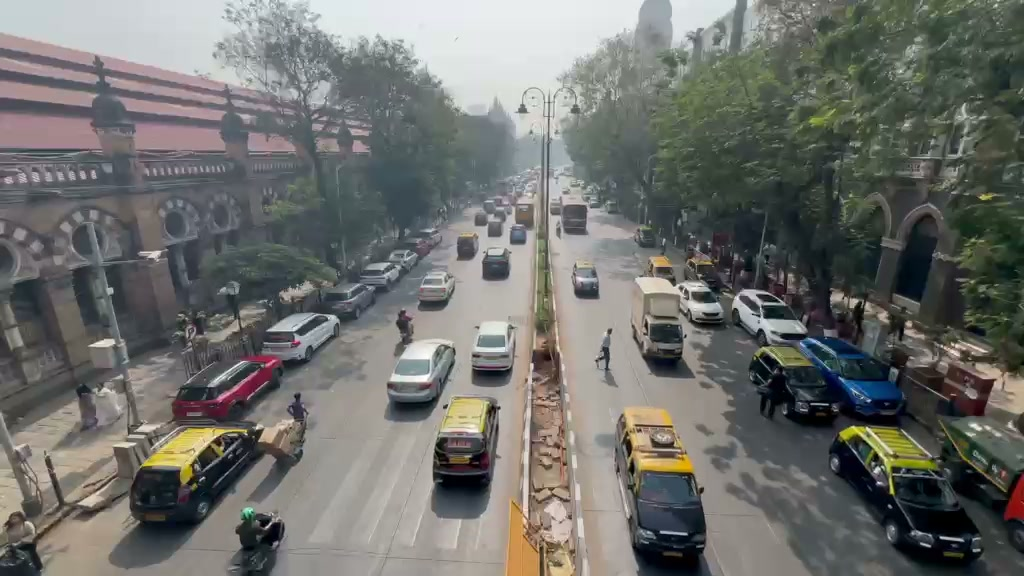car: (128, 424, 261, 525), (797, 335, 907, 421), (626, 457, 708, 562), (170, 354, 283, 422), (748, 342, 839, 423), (431, 396, 501, 487), (614, 405, 691, 480), (385, 337, 457, 407), (260, 311, 340, 366), (732, 289, 808, 344), (470, 320, 517, 376), (315, 281, 376, 321), (676, 281, 724, 326), (1002, 469, 1024, 554), (416, 271, 455, 309), (359, 260, 401, 294), (570, 260, 601, 299), (482, 245, 511, 281)
pedestrian: (2, 510, 43, 573), (75, 382, 99, 433), (287, 391, 308, 428), (395, 308, 415, 346)
truck: (827, 422, 985, 564), (937, 413, 1024, 512), (629, 275, 686, 363)
